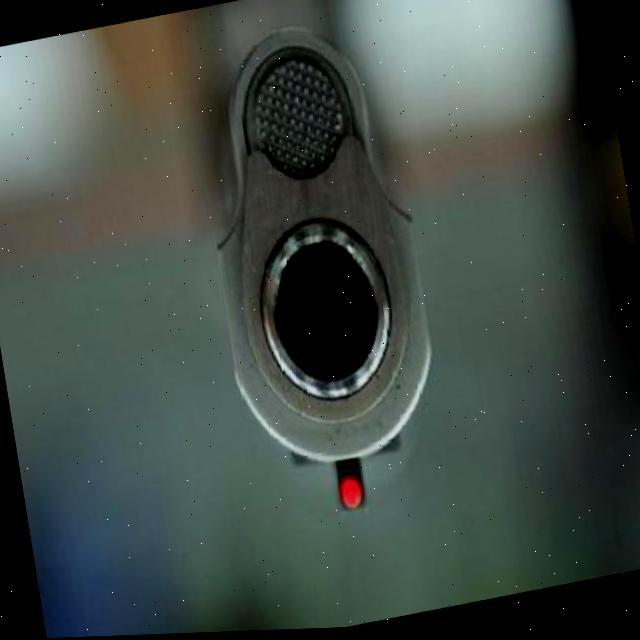gun: (167, 0, 472, 584)
